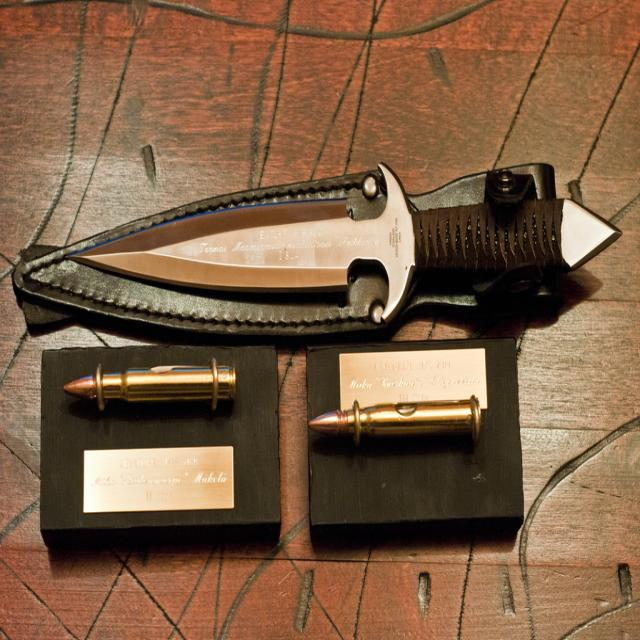Gun: (70, 165, 619, 312)
